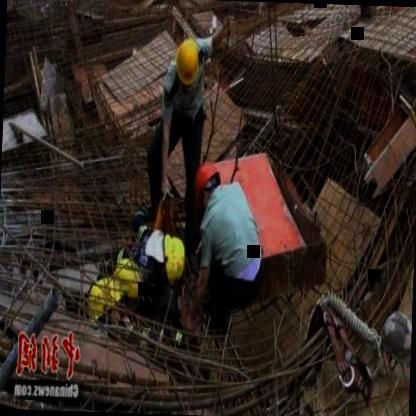helmet: (86, 278, 122, 342), (113, 254, 144, 314), (156, 231, 188, 288), (174, 34, 204, 90), (192, 164, 222, 214)
